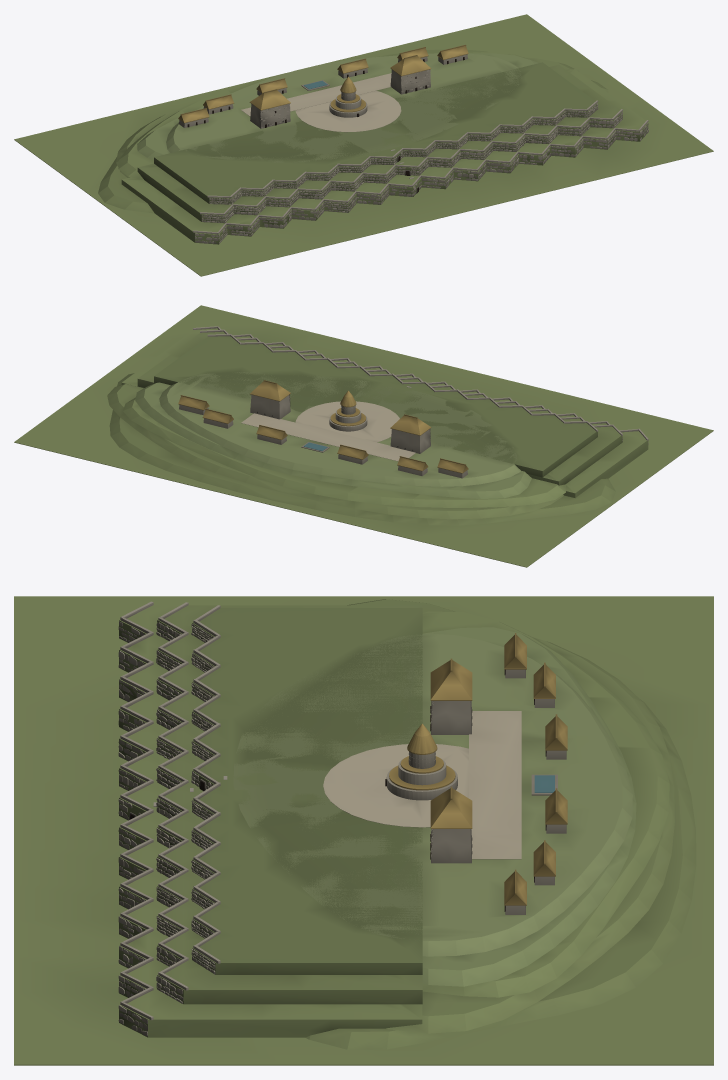
Rendered from sacsayhuaman.glb.
3 views of the same model, one above another, from view 1: azimuth 30°, elevation 25°; view 2: azimuth 150°, elevation 25°; view 3: azimuth 270°, elevation 25° (orthographic). The views are drawn at different scales.
Parts seen in each view (by area): view 1: p0_terraces, p1_zigzag walls, p2_parapets and halls, p3_towers; view 2: p0_terraces, p2_parapets and halls, p3_towers; view 3: p0_terraces, p2_parapets and halls, p1_zigzag walls, p3_towers.
Part boxes in pixels (x1,y1,x2,y2): p0_terraces: (14, 14, 713, 276); p1_zigzag walls: (195, 103, 648, 243); p2_parapets and halls: (178, 44, 648, 234); p3_towers: (249, 55, 431, 128); p0_terraces: (14, 305, 713, 567); p2_parapets and halls: (178, 326, 648, 478); p3_towers: (250, 380, 431, 453); p0_terraces: (14, 596, 713, 1065); p2_parapets and halls: (120, 601, 567, 1020); p1_zigzag walls: (118, 620, 227, 1036); p3_towers: (385, 658, 472, 863).
Bounding box in the file's own units: 380 × 40.7 × 240.
